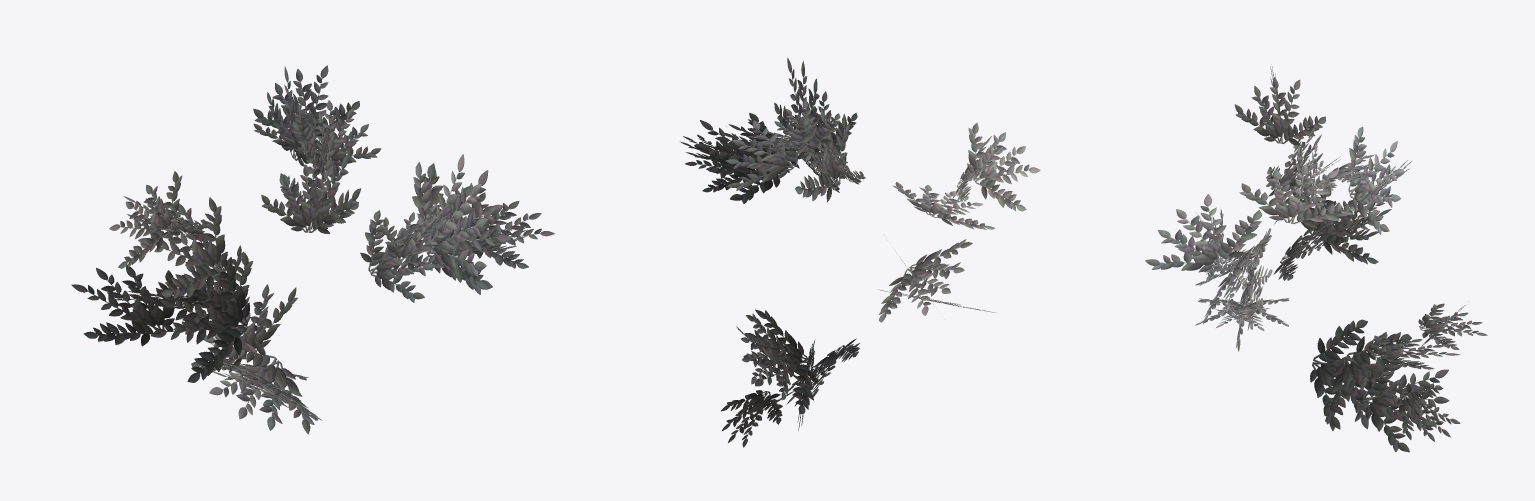
File: sapling_l1.gltf
The picture shows the model from 3 angles, left to right: view 1: azimuth 30°, elevation 25°; view 2: azimuth 150°, elevation 25°; view 3: azimuth 270°, elevation 25°; orthographic projection. The views are drawn at different scales.
Visible parts, largest first — view 1: sapling_l1; view 2: sapling_l1; view 3: sapling_l1.
Boxes of the visible parts, bbox=[...] form: sapling_l1: bbox=[71, 65, 554, 434]; sapling_l1: bbox=[680, 57, 1040, 447]; sapling_l1: bbox=[1145, 64, 1487, 452].
Bounding box in the file's own units: 4.44 × 3.9 × 3.65.
Materials: 1 (1 with a texture image).
